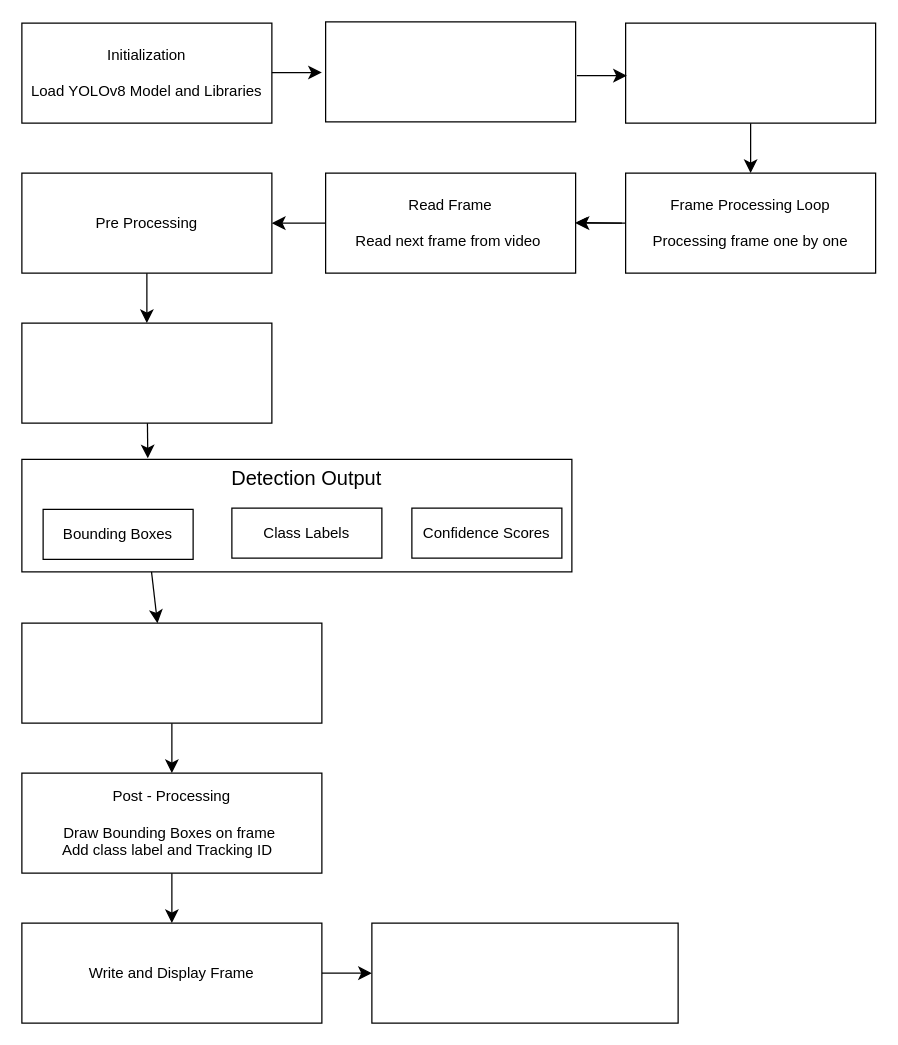
The diagram is 898 pixels wide and 1045 high, and some of its shapes have lost their labels. Each missing label, with the box of its shape:
Input Source Video File (.mp4): (324, 21, 576, 122)
Object Tracking ByteTrack Algorithm: (21, 622, 322, 723)
Release Resources: (371, 922, 678, 1023)
Setup Get properties Initialize video Writer: (624, 22, 876, 123)
YOLO v8 Inference Feature Extraction Object Detection: (21, 322, 272, 423)
